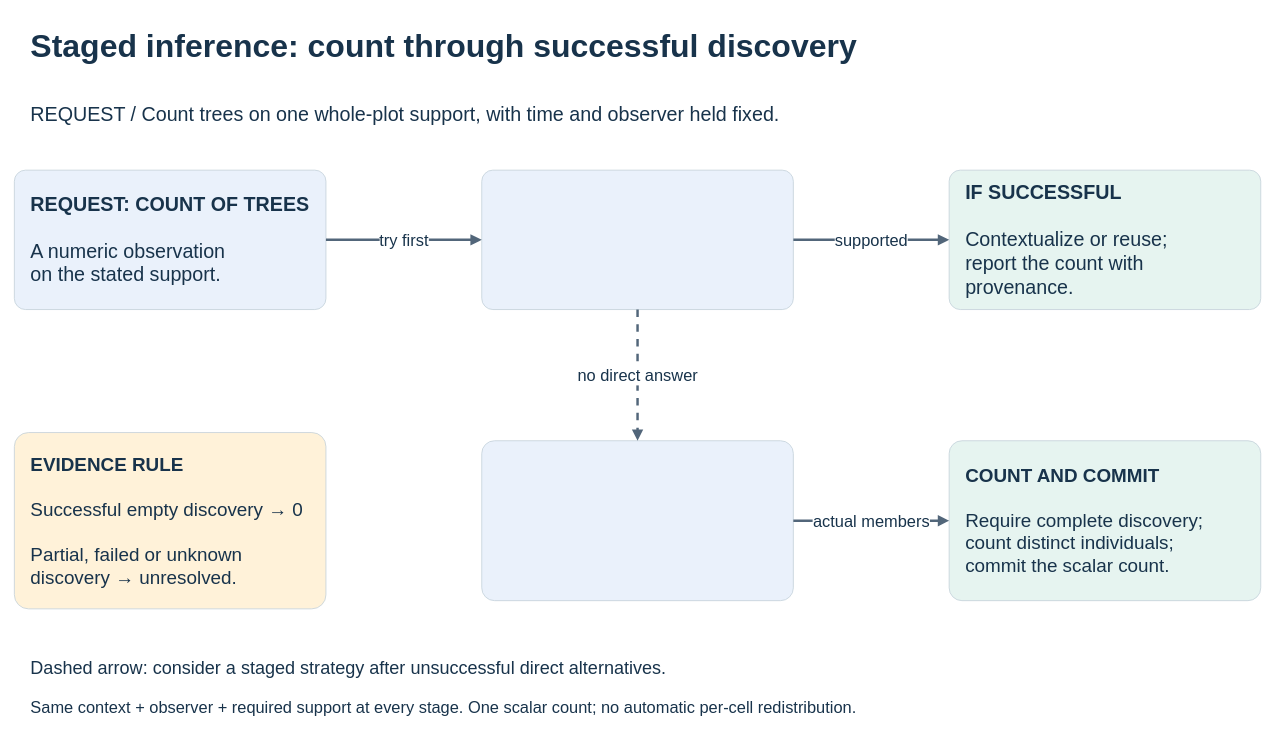
This 1275x737 diagram has some shape labels left out. The centre of each missing label's shape, as x and y in pixels:
DIRECT ROUTE: OBSERVE Seek a count model or reuse an eligible count observation.: point 637,239
STAGED ROUTE: RESOLVE Resolve the collective Tree: discover actual individuals.: point 637,520
